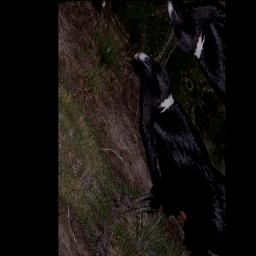Crow: (76, 36, 219, 256)
